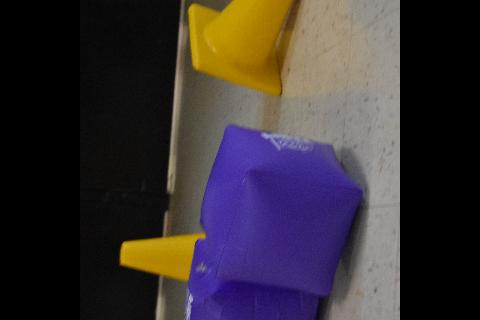cone: (187, 0, 314, 96), (118, 231, 208, 281)
cube: (200, 123, 364, 295), (184, 237, 320, 320)
